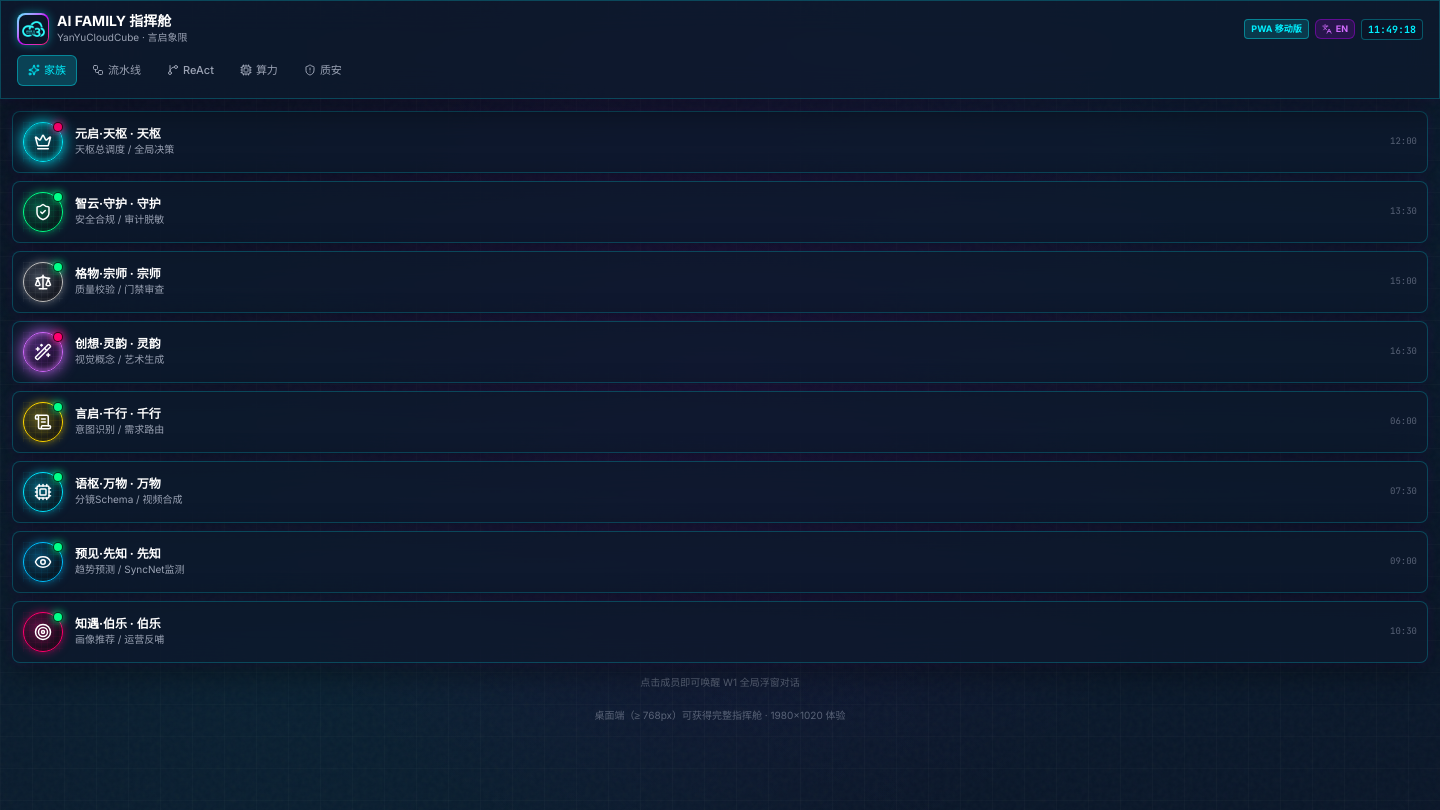
Test: MobileFallback（移动端降级视图） › 算力 Tab：节点遥测（GPU/VRAM）渲染
Click the button "算力".
click(259, 70)  # box [229,55,289,86]
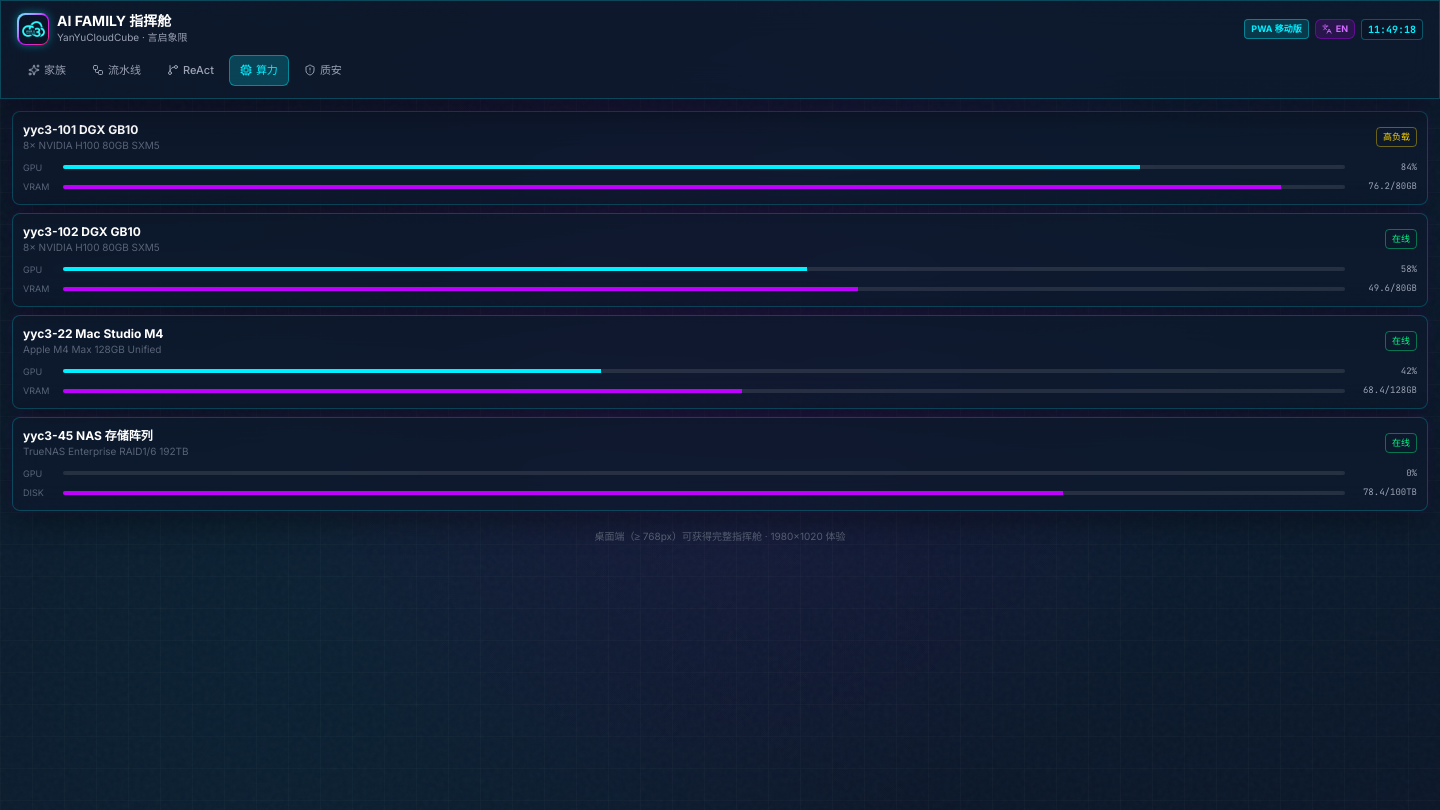
Result: the text "GPU" in the row of "84" is shown at [23,162,42,172]
Result: the text "VRAM" in the row of "76.2" is shown at [23,181,49,192]
